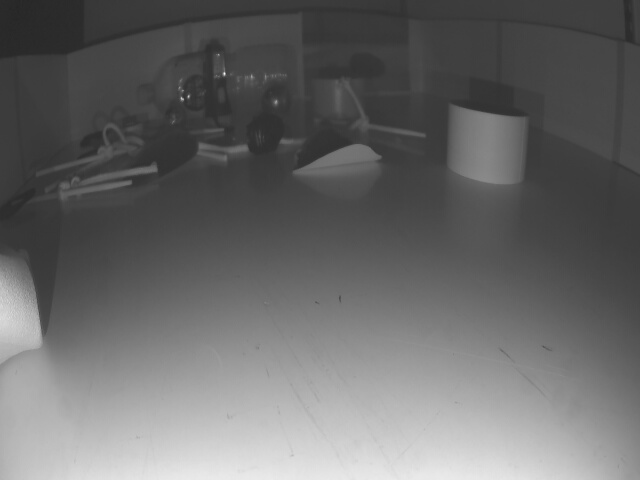Live: (263, 88, 288, 117)
